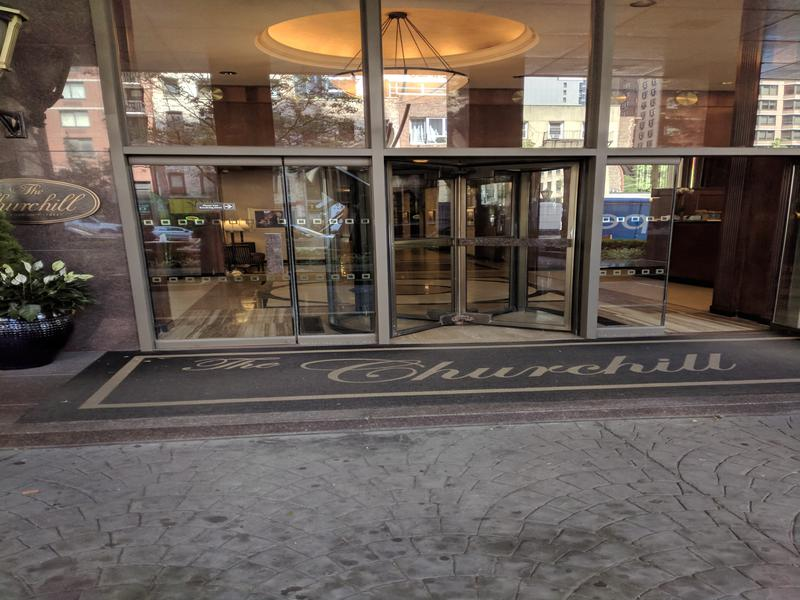revolving_door: (381, 149, 587, 346)
